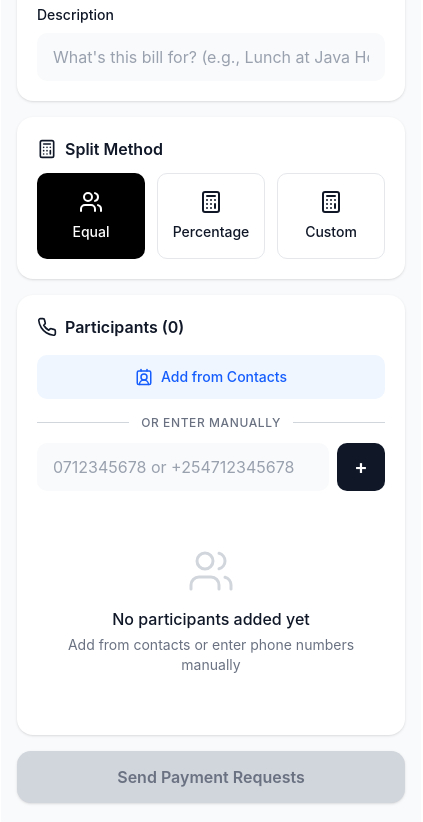
CreateNewBillPage › adds participant when phone number is entered and add button is clicked
(page scrolled)
Type "+254712345678" into the field with placeholder "0712345678 or +254712345678". click: [183, 466]
box: [37,442,329,490]
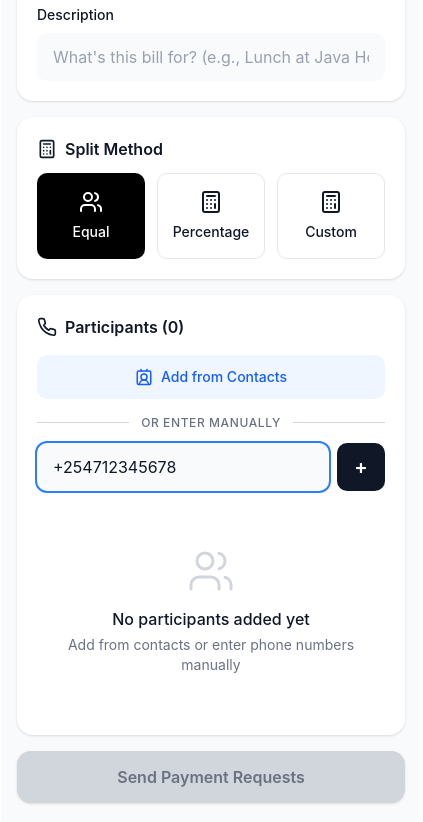
Click the button "+". click: [361, 466]
box: [337,442,385,490]
(page scrolled)
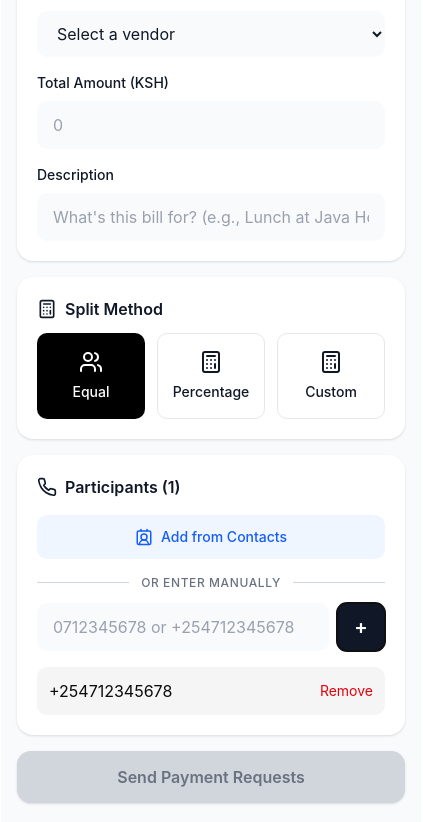
expect the text "+254712345678" is shown: met, box [49,678,172,702]
expect the heading "Participants (1)" is shown: met, box [65,474,180,498]
